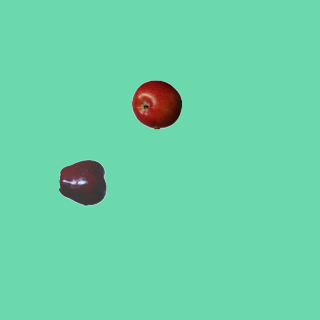Apple Braeburn: (131, 79, 181, 129)
Apple Red Delicious: (58, 157, 108, 207)
